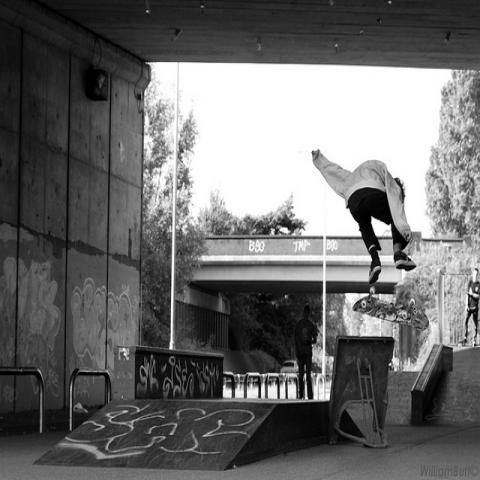car: (280, 360, 298, 374)
